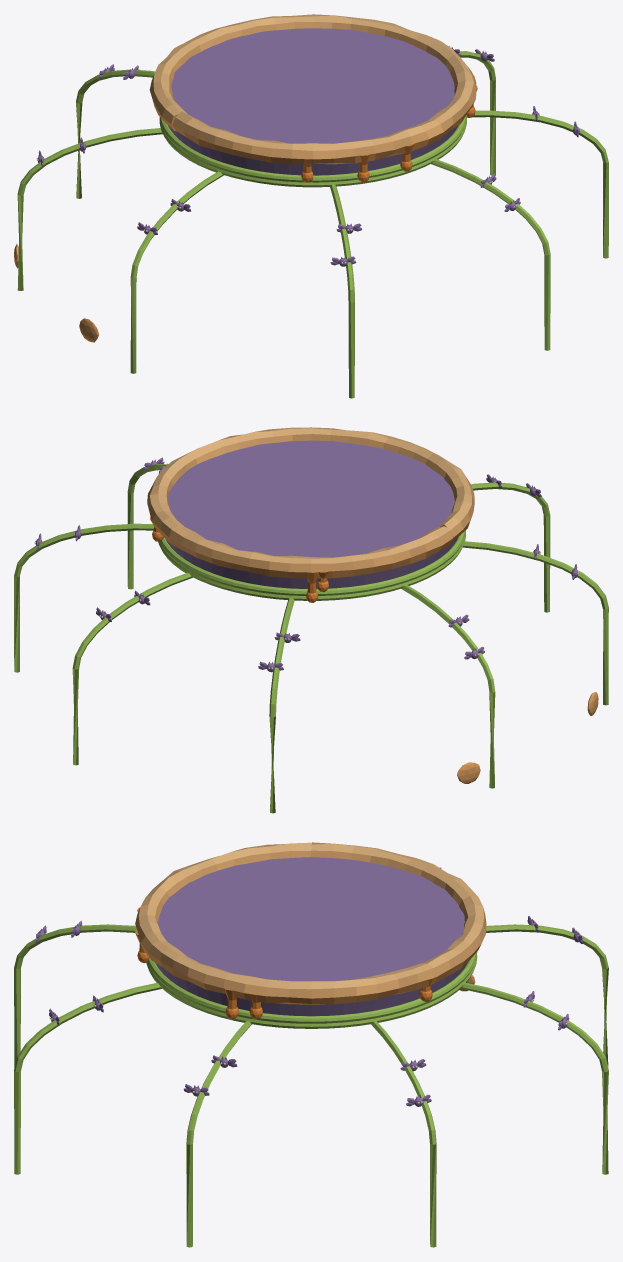
Rendered from goo_jar_trim_1_top@haunted.fbx.
The picture shows the model from 3 angles, top to bottom: view 1: azimuth 30°, elevation 25°; view 2: azimuth 150°, elevation 25°; view 3: azimuth 270°, elevation 25°; orthographic projection. The views are drawn at different scales.
Parts seen in each view (by area): view 1: goo_jar_trim_1_top; view 2: goo_jar_trim_1_top; view 3: goo_jar_trim_1_top.
Part boxes in pixels (left/top/right/bottom): goo_jar_trim_1_top: left=14, top=14, right=608, bottom=398; goo_jar_trim_1_top: left=14, top=427, right=608, bottom=813; goo_jar_trim_1_top: left=14, top=842, right=608, bottom=1247.
Size of the model in its own units: 60.32 by 22.69 by 58.31.
